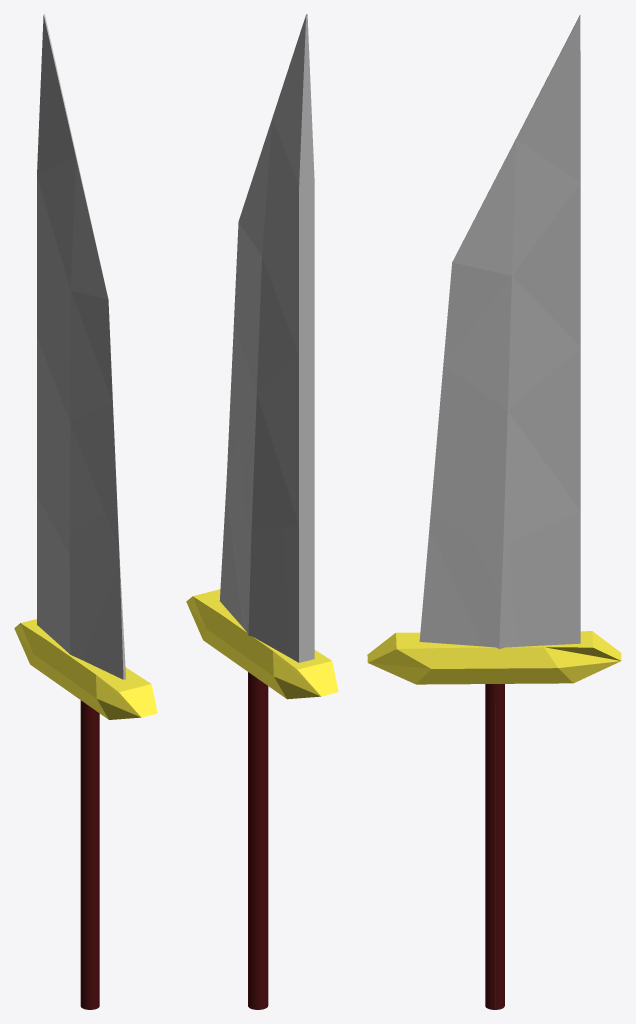
Rendered from slash.obj.
3 renders of one model, left to right at view 1: azimuth 30°, elevation 25°; view 2: azimuth 210°, elevation 25°; view 3: azimuth 270°, elevation 25°, orthographic. The views are drawn at different scales.
Parts seen in each view (by area): view 1: 円柱; view 2: 円柱; view 3: 円柱.
Boxes of the visible parts, x1=… form: 円柱: x1=14, y1=14, x2=157, y2=1009; 円柱: x1=186, y1=14, x2=338, y2=1009; 円柱: x1=367, y1=15, x2=621, y2=1009.
Bounding box in the file's own units: 0.2699 × 5.56 × 1.29.
